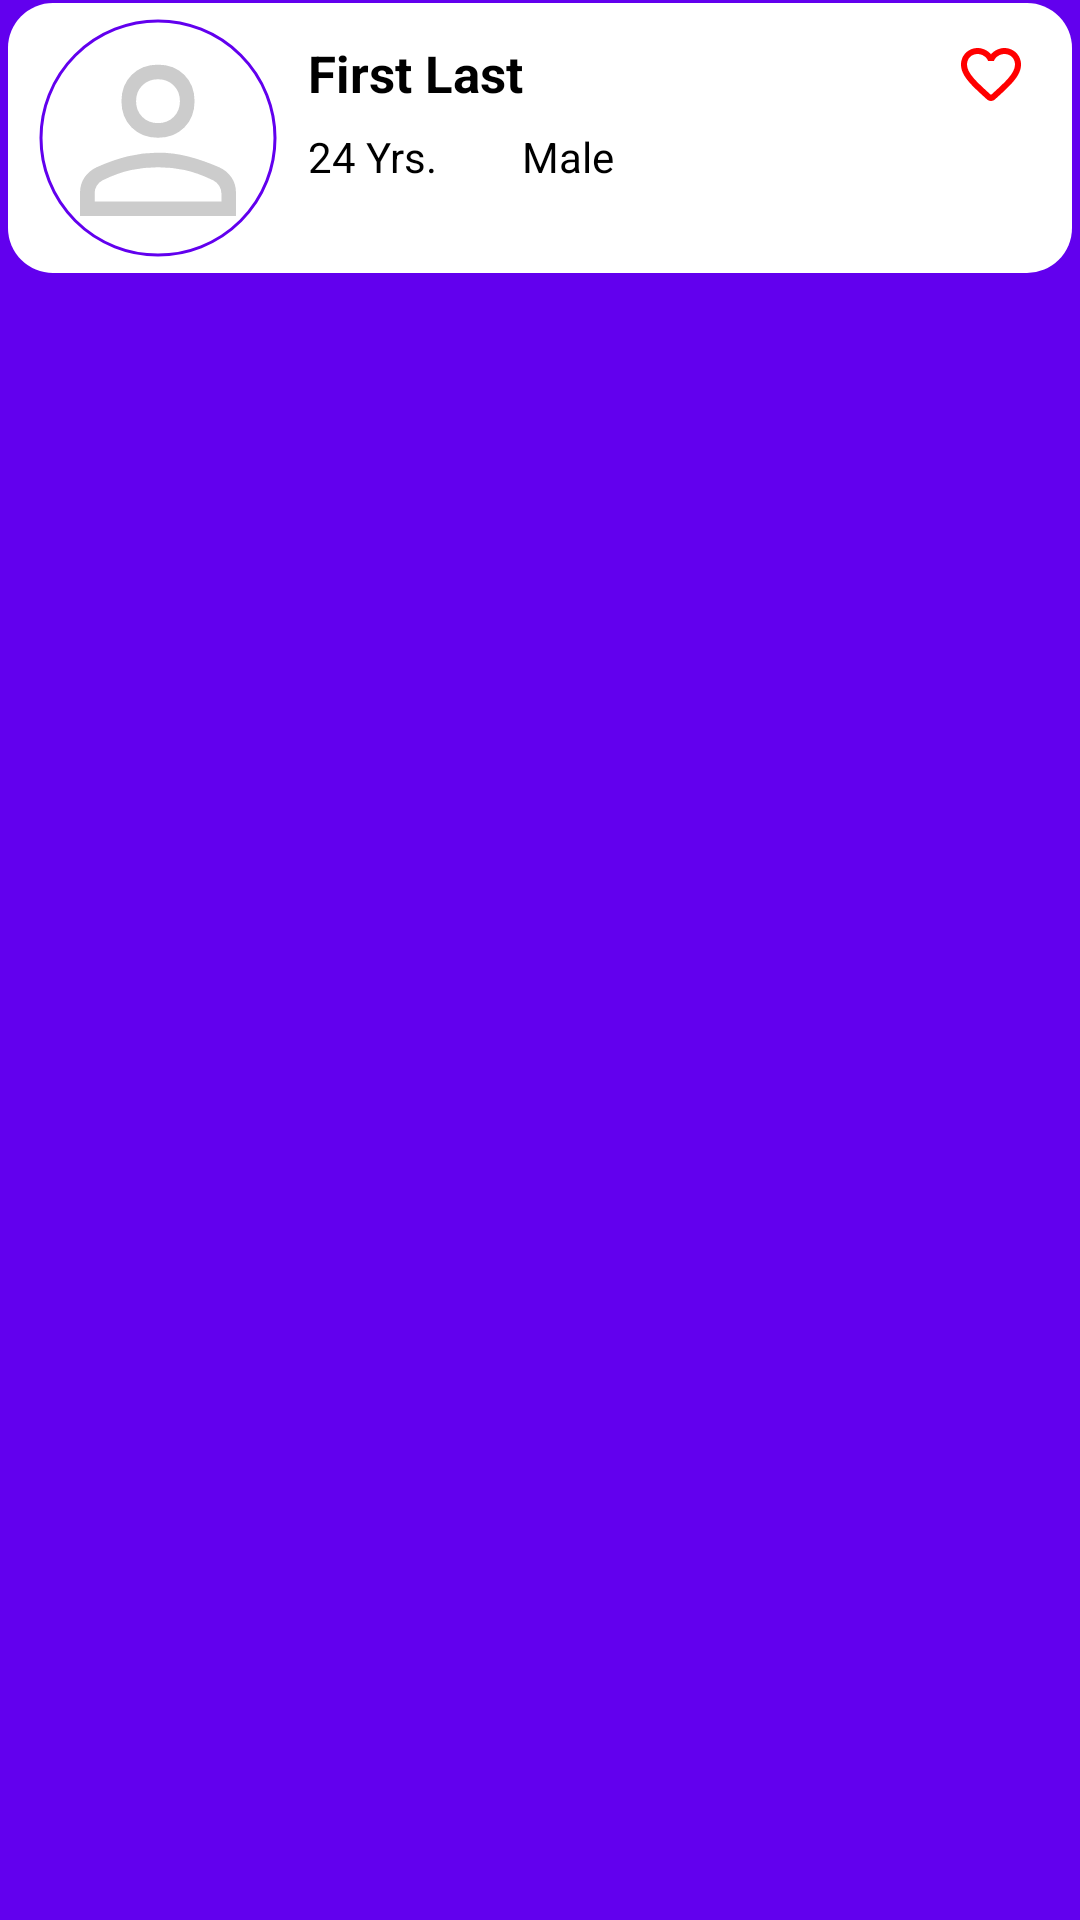

Icon bounding boxes for this 1080 × 1920 phone screenshot, format (x1, y1, x2, y2):
favorite: (961, 48, 1021, 101)
profile pic: (39, 19, 277, 257)
